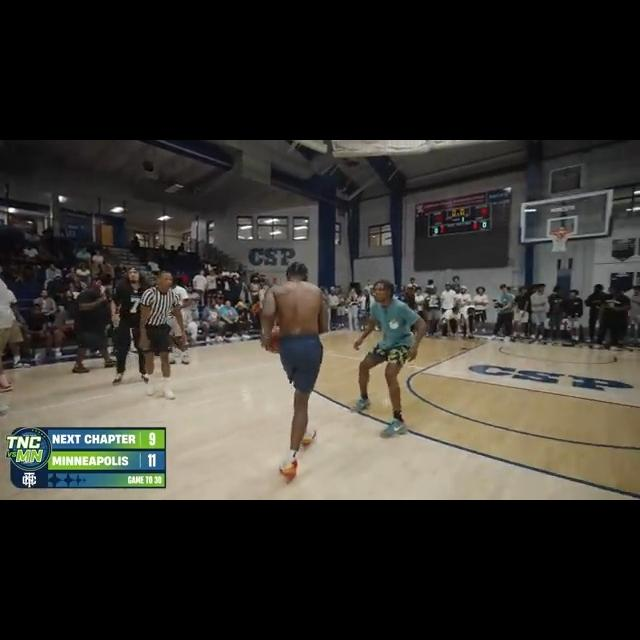basketball: (263, 322, 282, 354)
hoop: (549, 228, 570, 254)
